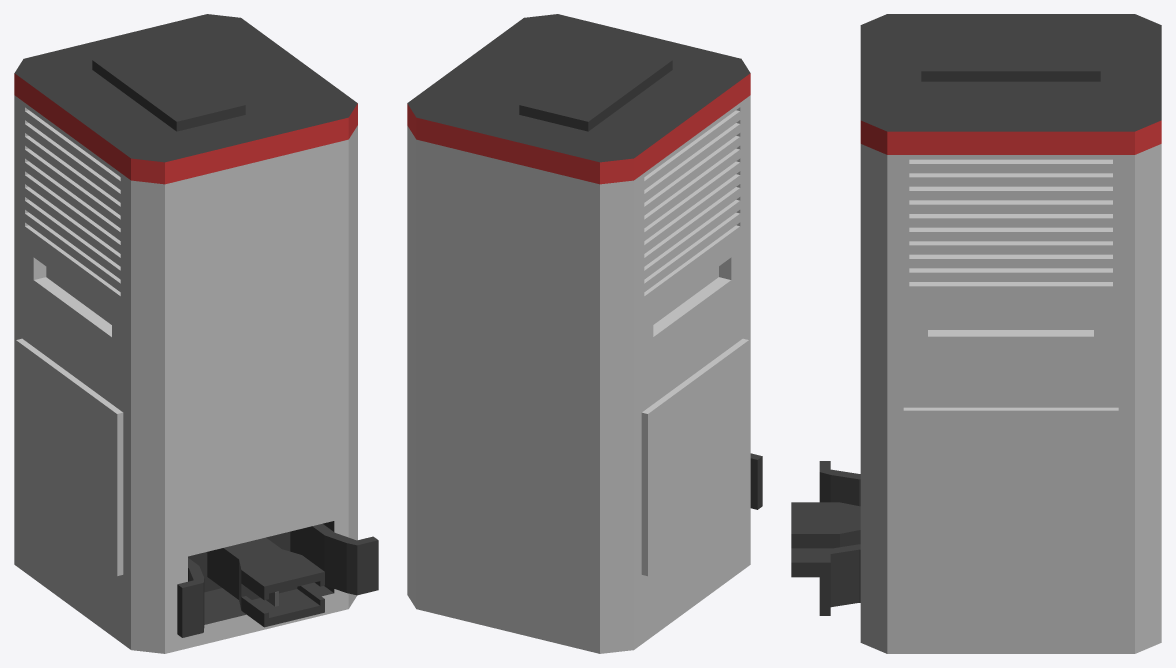
Rendered from charger-hik.glb.
3 renders of one model, left to right at view 1: azimuth 30°, elevation 25°; view 2: azimuth 150°, elevation 25°; view 3: azimuth 270°, elevation 25°, orthographic. The views are drawn at different scales.
Visible parts, largest first — view 1: Cube104, Cube104_2, Cube104_1; view 2: Cube104, Cube104_2, Cube104_1; view 3: Cube104, Cube104_2, Cube104_1.
Part boxes in pixels (x1,y1,x2,y2): Cube104: (14,95,357,653); Cube104_2: (14,14,378,637); Cube104_1: (14,73,357,184); Cube104: (407,95,750,653); Cube104_2: (407,14,762,509); Cube104_1: (407,73,750,184); Cube104: (860,144,1161,653); Cube104_2: (791,14,1161,615); Cube104_1: (860,120,1161,154).
Size of the model in its own units: 0.5876 by 1.18 by 0.741.
